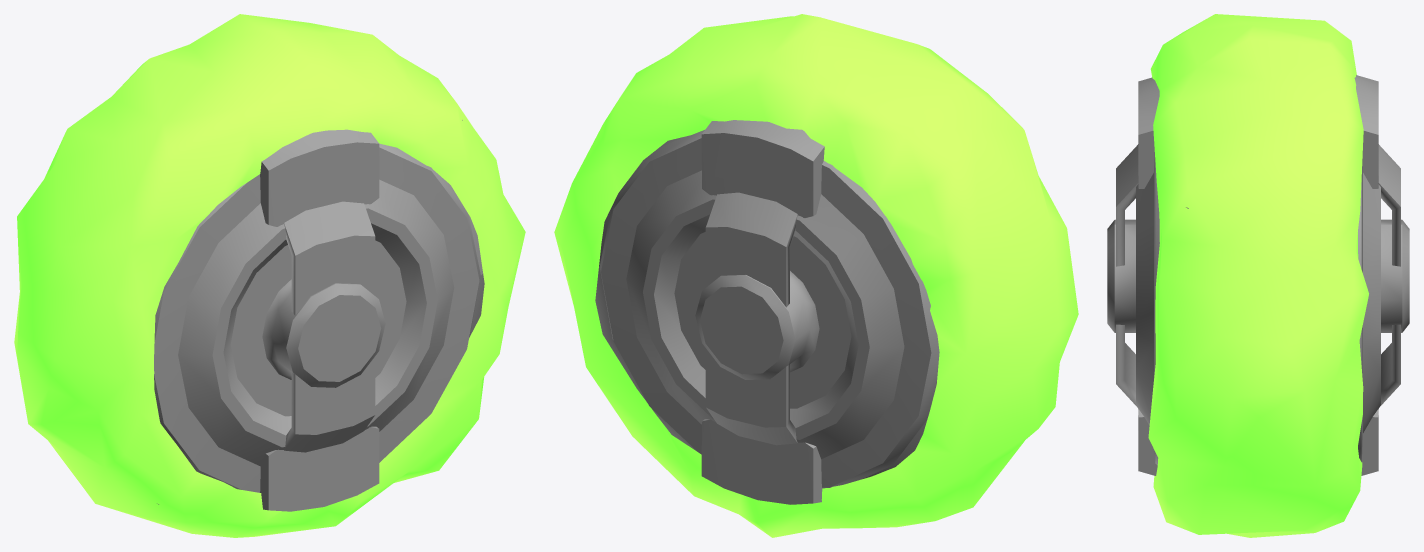
File: obj_interactive_stickywheel_lod1_pose0.fbx
3 renders of one model, left to right at view 1: azimuth 30°, elevation 25°; view 2: azimuth 150°, elevation 25°; view 3: azimuth 270°, elevation 25°, orthographic.
Visible parts, largest first — view 1: goop_lod1, obj_interactive_stickywheel_lod1; view 2: goop_lod1, obj_interactive_stickywheel_lod1; view 3: goop_lod1, obj_interactive_stickywheel_lod1.
Part boxes in pixels (x1,y1,x2,y2): goop_lod1: [14, 14, 525, 537]; obj_interactive_stickywheel_lod1: [154, 120, 484, 511]; goop_lod1: [554, 14, 1078, 537]; obj_interactive_stickywheel_lod1: [595, 120, 939, 504]; goop_lod1: [1148, 14, 1368, 537]; obj_interactive_stickywheel_lod1: [1107, 75, 1409, 475].
Size of the model in its own units: 5.56 by 5.42 by 2.99.
